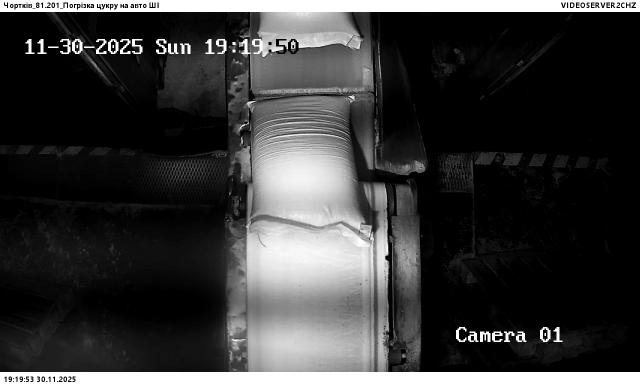bag: (248, 96, 374, 249), (260, 11, 363, 57)
